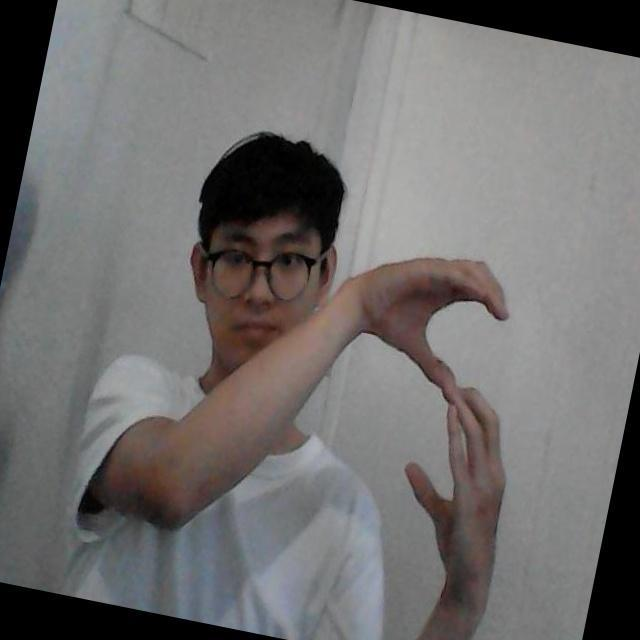S: (373, 252, 530, 528)
